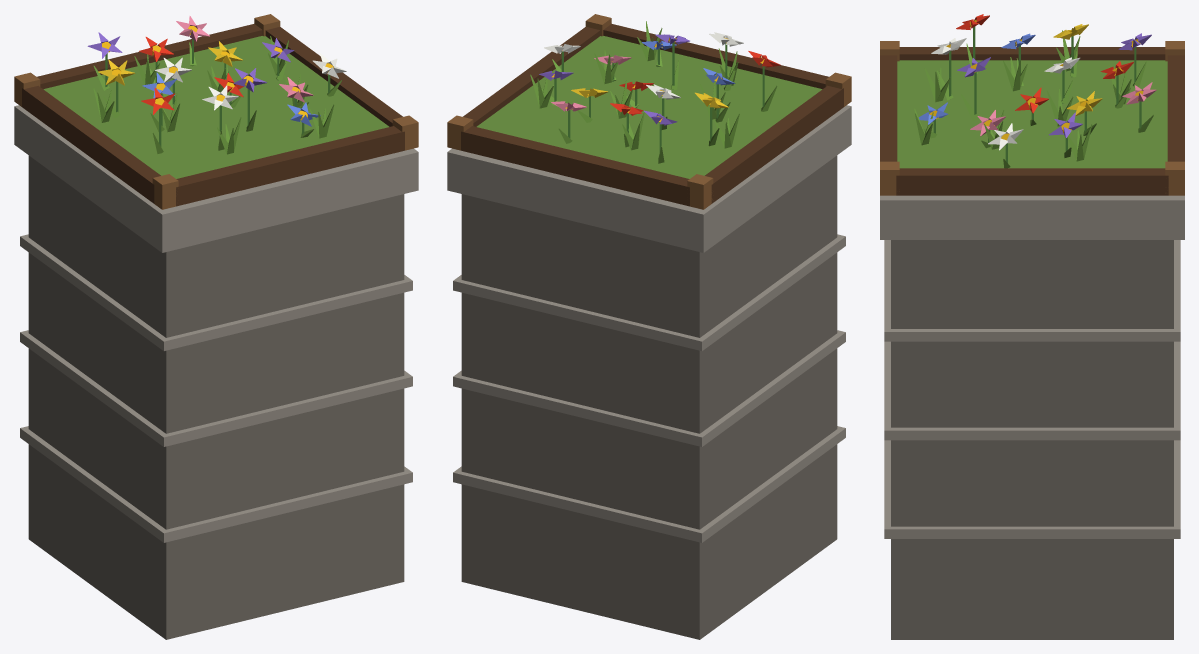
Rendered from decor_wildflowers.glb.
3 views of the same model, side by side, from view 1: azimuth 30°, elevation 25°; view 2: azimuth 150°, elevation 25°; view 3: azimuth 270°, elevation 25° (orthographic). The views are drawn at different scales.
Parts seen in each view (by area): view 1: decor_wildflowers; view 2: decor_wildflowers; view 3: decor_wildflowers.
Part boxes in pixels (x1,y1,x2,y2): decor_wildflowers: [14, 14, 418, 639]; decor_wildflowers: [447, 14, 851, 639]; decor_wildflowers: [880, 14, 1184, 639].
Bounding box in the file's own units: 2.8 × 5.3 × 2.8.
